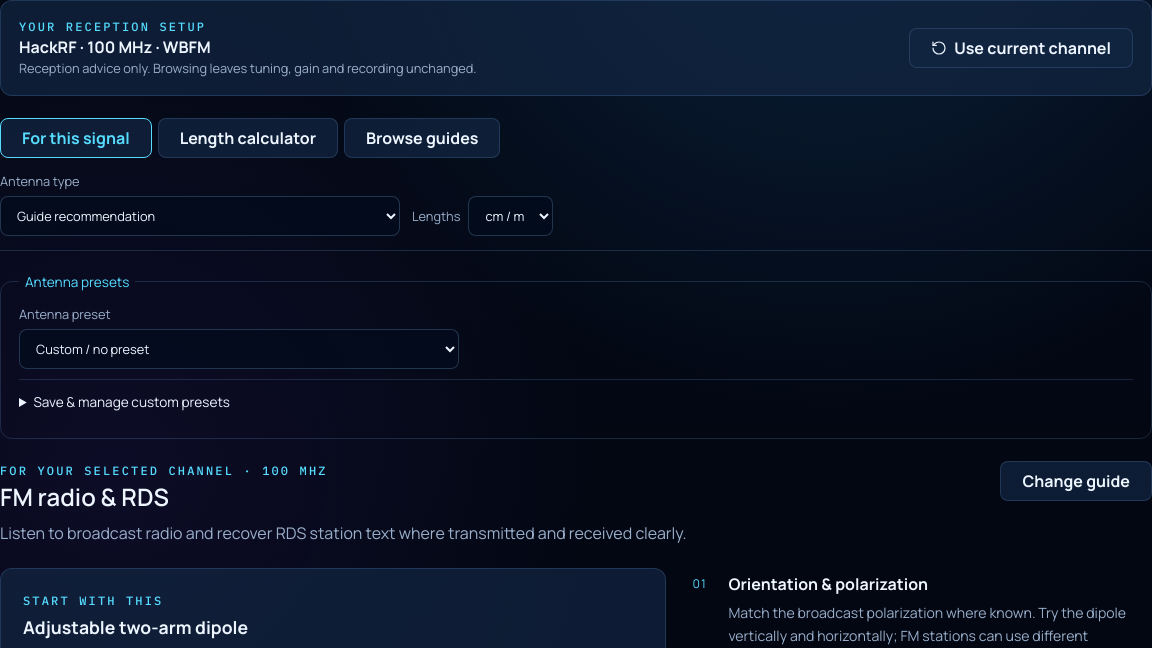
retains the original snapshot across context changes and refreshes only on deliberate action
The image size is (1152, 648).
Click the tab "Length calculator". click: (248, 138)
box: [158, 118, 338, 158]
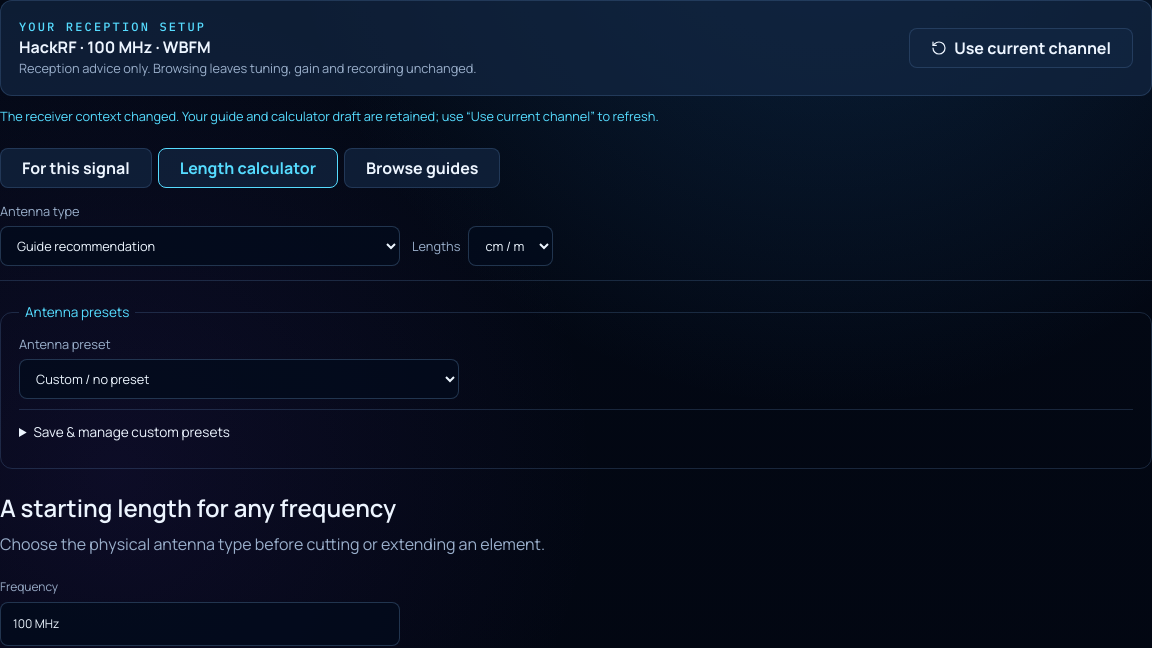
expect the field labelled "Frequency" holds "100 MHz": met, box [0, 602, 400, 646]
expect the message shows "context changed": met, box [0, 107, 659, 125]
Click the button "Use current channel". click: (1021, 48)
box: [909, 28, 1133, 68]
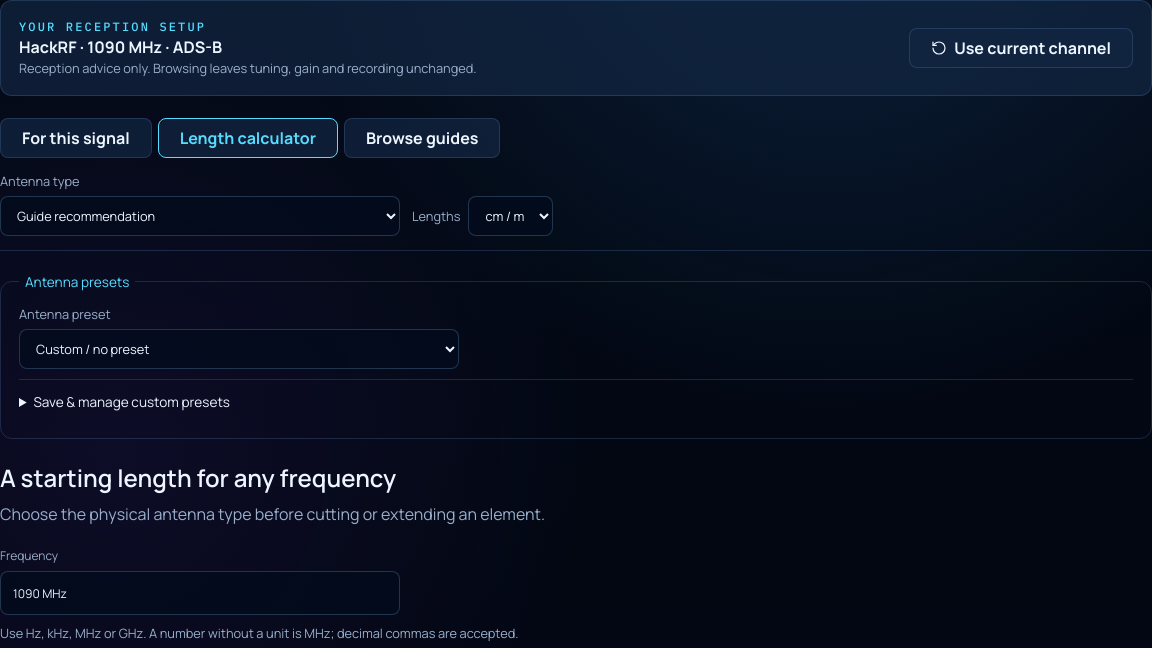
expect the field labelled "Frequency" holds "1090 MHz": met, box [0, 571, 400, 615]
expect the message "The receiver context changed. Your guide and calculator draft are retained; use" is gone: met
